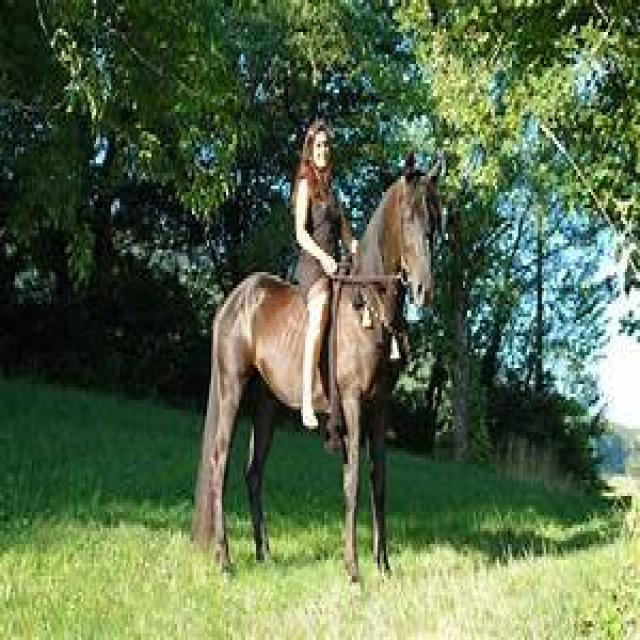horse: (194, 163, 444, 586)
